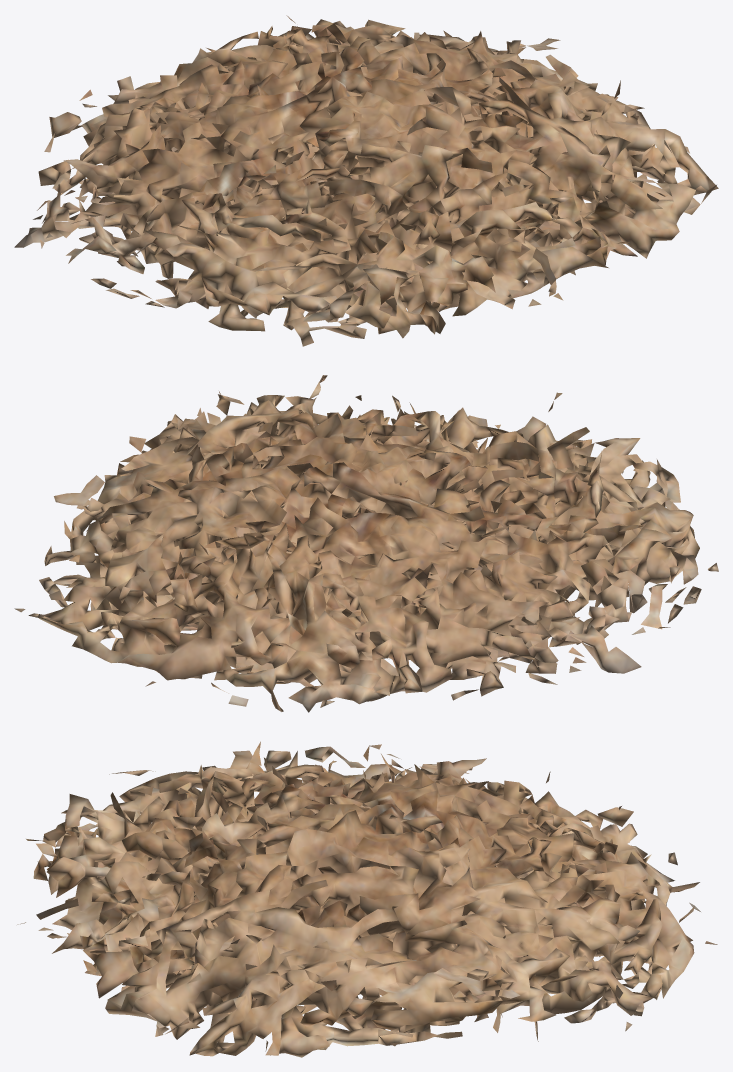
Rendered from Cardboard_Shreds_1225041248_texture.fbx.
3 views of the same model, one above another, from view 1: azimuth 30°, elevation 25°; view 2: azimuth 150°, elevation 25°; view 3: azimuth 270°, elevation 25° (orthographic). The views are drawn at different scales.
Visible parts, largest first — view 1: Mesh1_Mesh1.017; view 2: Mesh1_Mesh1.017; view 3: Mesh1_Mesh1.017.
Boxes of the visible parts, x1=… form: Mesh1_Mesh1.017: x1=14, y1=15, x2=718, y2=346; Mesh1_Mesh1.017: x1=14, y1=375, x2=718, y2=712; Mesh1_Mesh1.017: x1=17, y1=741, x2=717, y2=1057.
Size of the model in its own units: 194 by 41.26 by 194.
1 material, 1 textured.
